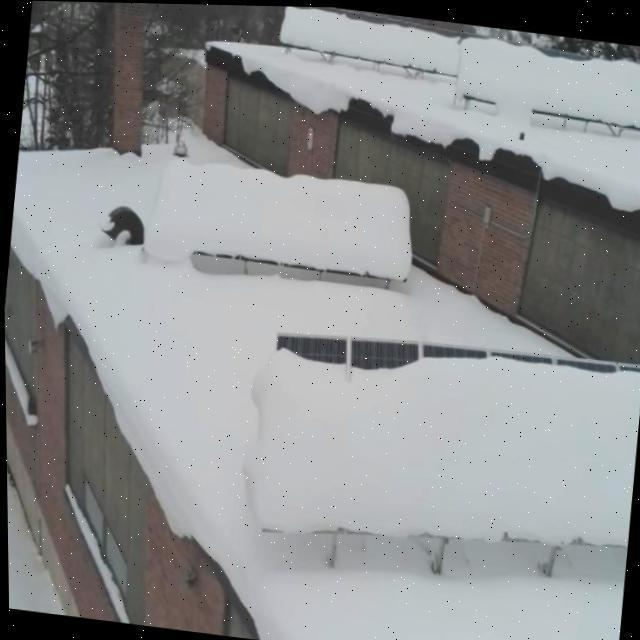Anomaly Solar Panel: (259, 329, 640, 543), (144, 159, 406, 278), (461, 28, 640, 126), (281, 5, 461, 73)
Snow: (264, 341, 640, 541), (147, 162, 405, 276), (462, 32, 640, 123), (285, 5, 461, 72)
